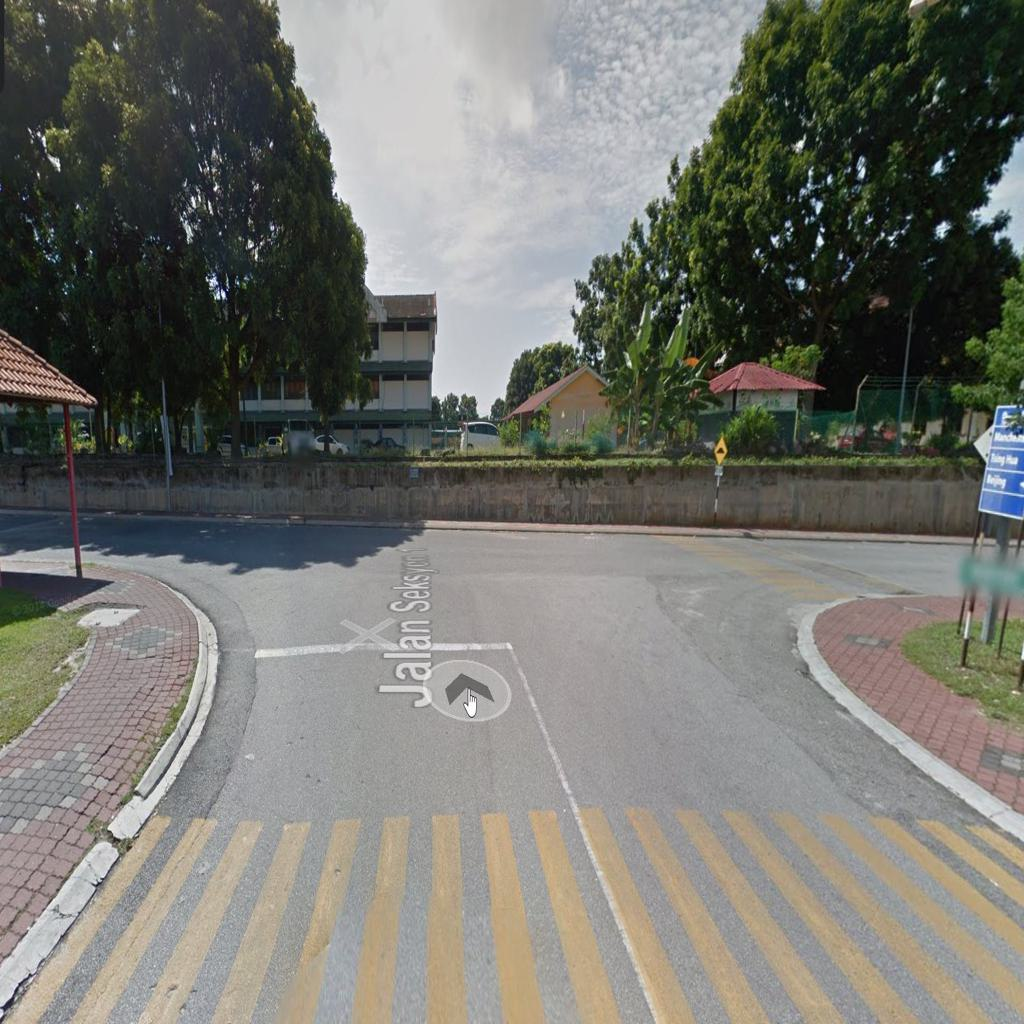Junction: (693, 490, 1022, 654), (94, 496, 301, 680)
